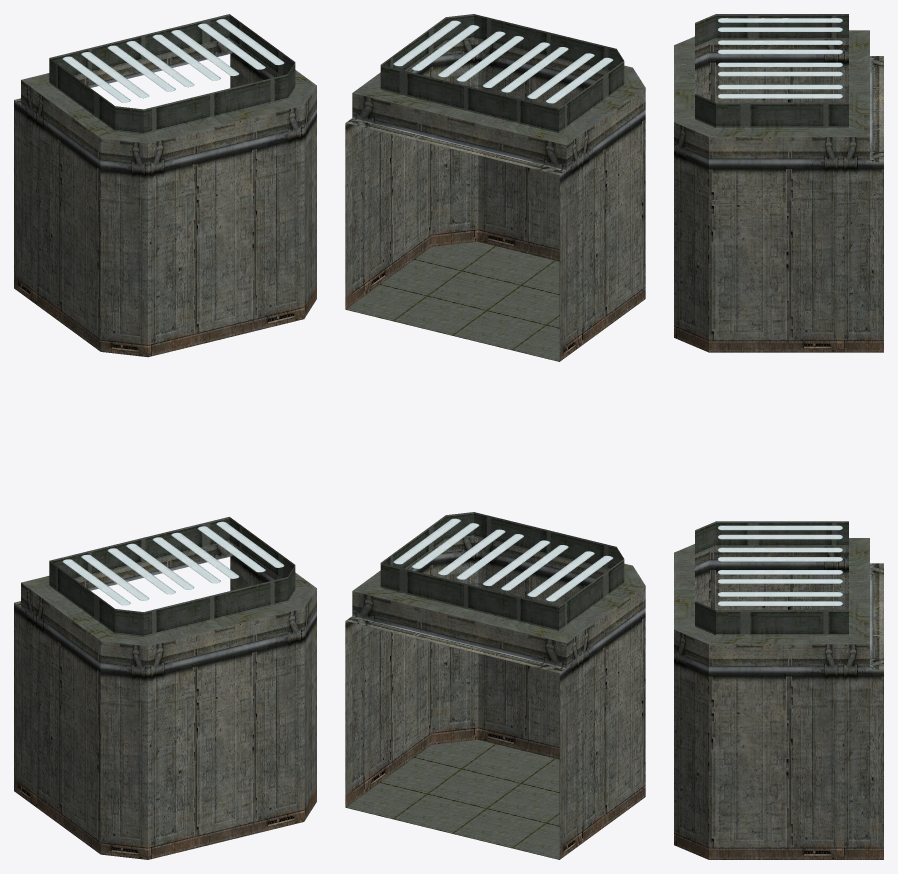
The model's file is poi_all_impl_bunker_crimelord_retreat_s01_r26_elevator01_mesh_r26.fbx.
The picture shows the model from 3 angles, left to right: view 1: azimuth 30°, elevation 25°; view 2: azimuth 150°, elevation 25°; view 3: azimuth 270°, elevation 25°; orthographic projection.
Visible parts, largest first — view 1: mesh_node; view 2: mesh_node; view 3: mesh_node.
Part boxes in pixels (bbox=[...]): mesh_node: bbox=[14, 14, 316, 859]; mesh_node: bbox=[345, 14, 645, 859]; mesh_node: bbox=[674, 14, 883, 859].
Bounding box in the file's own units: 3.6 × 11.8 × 3.
